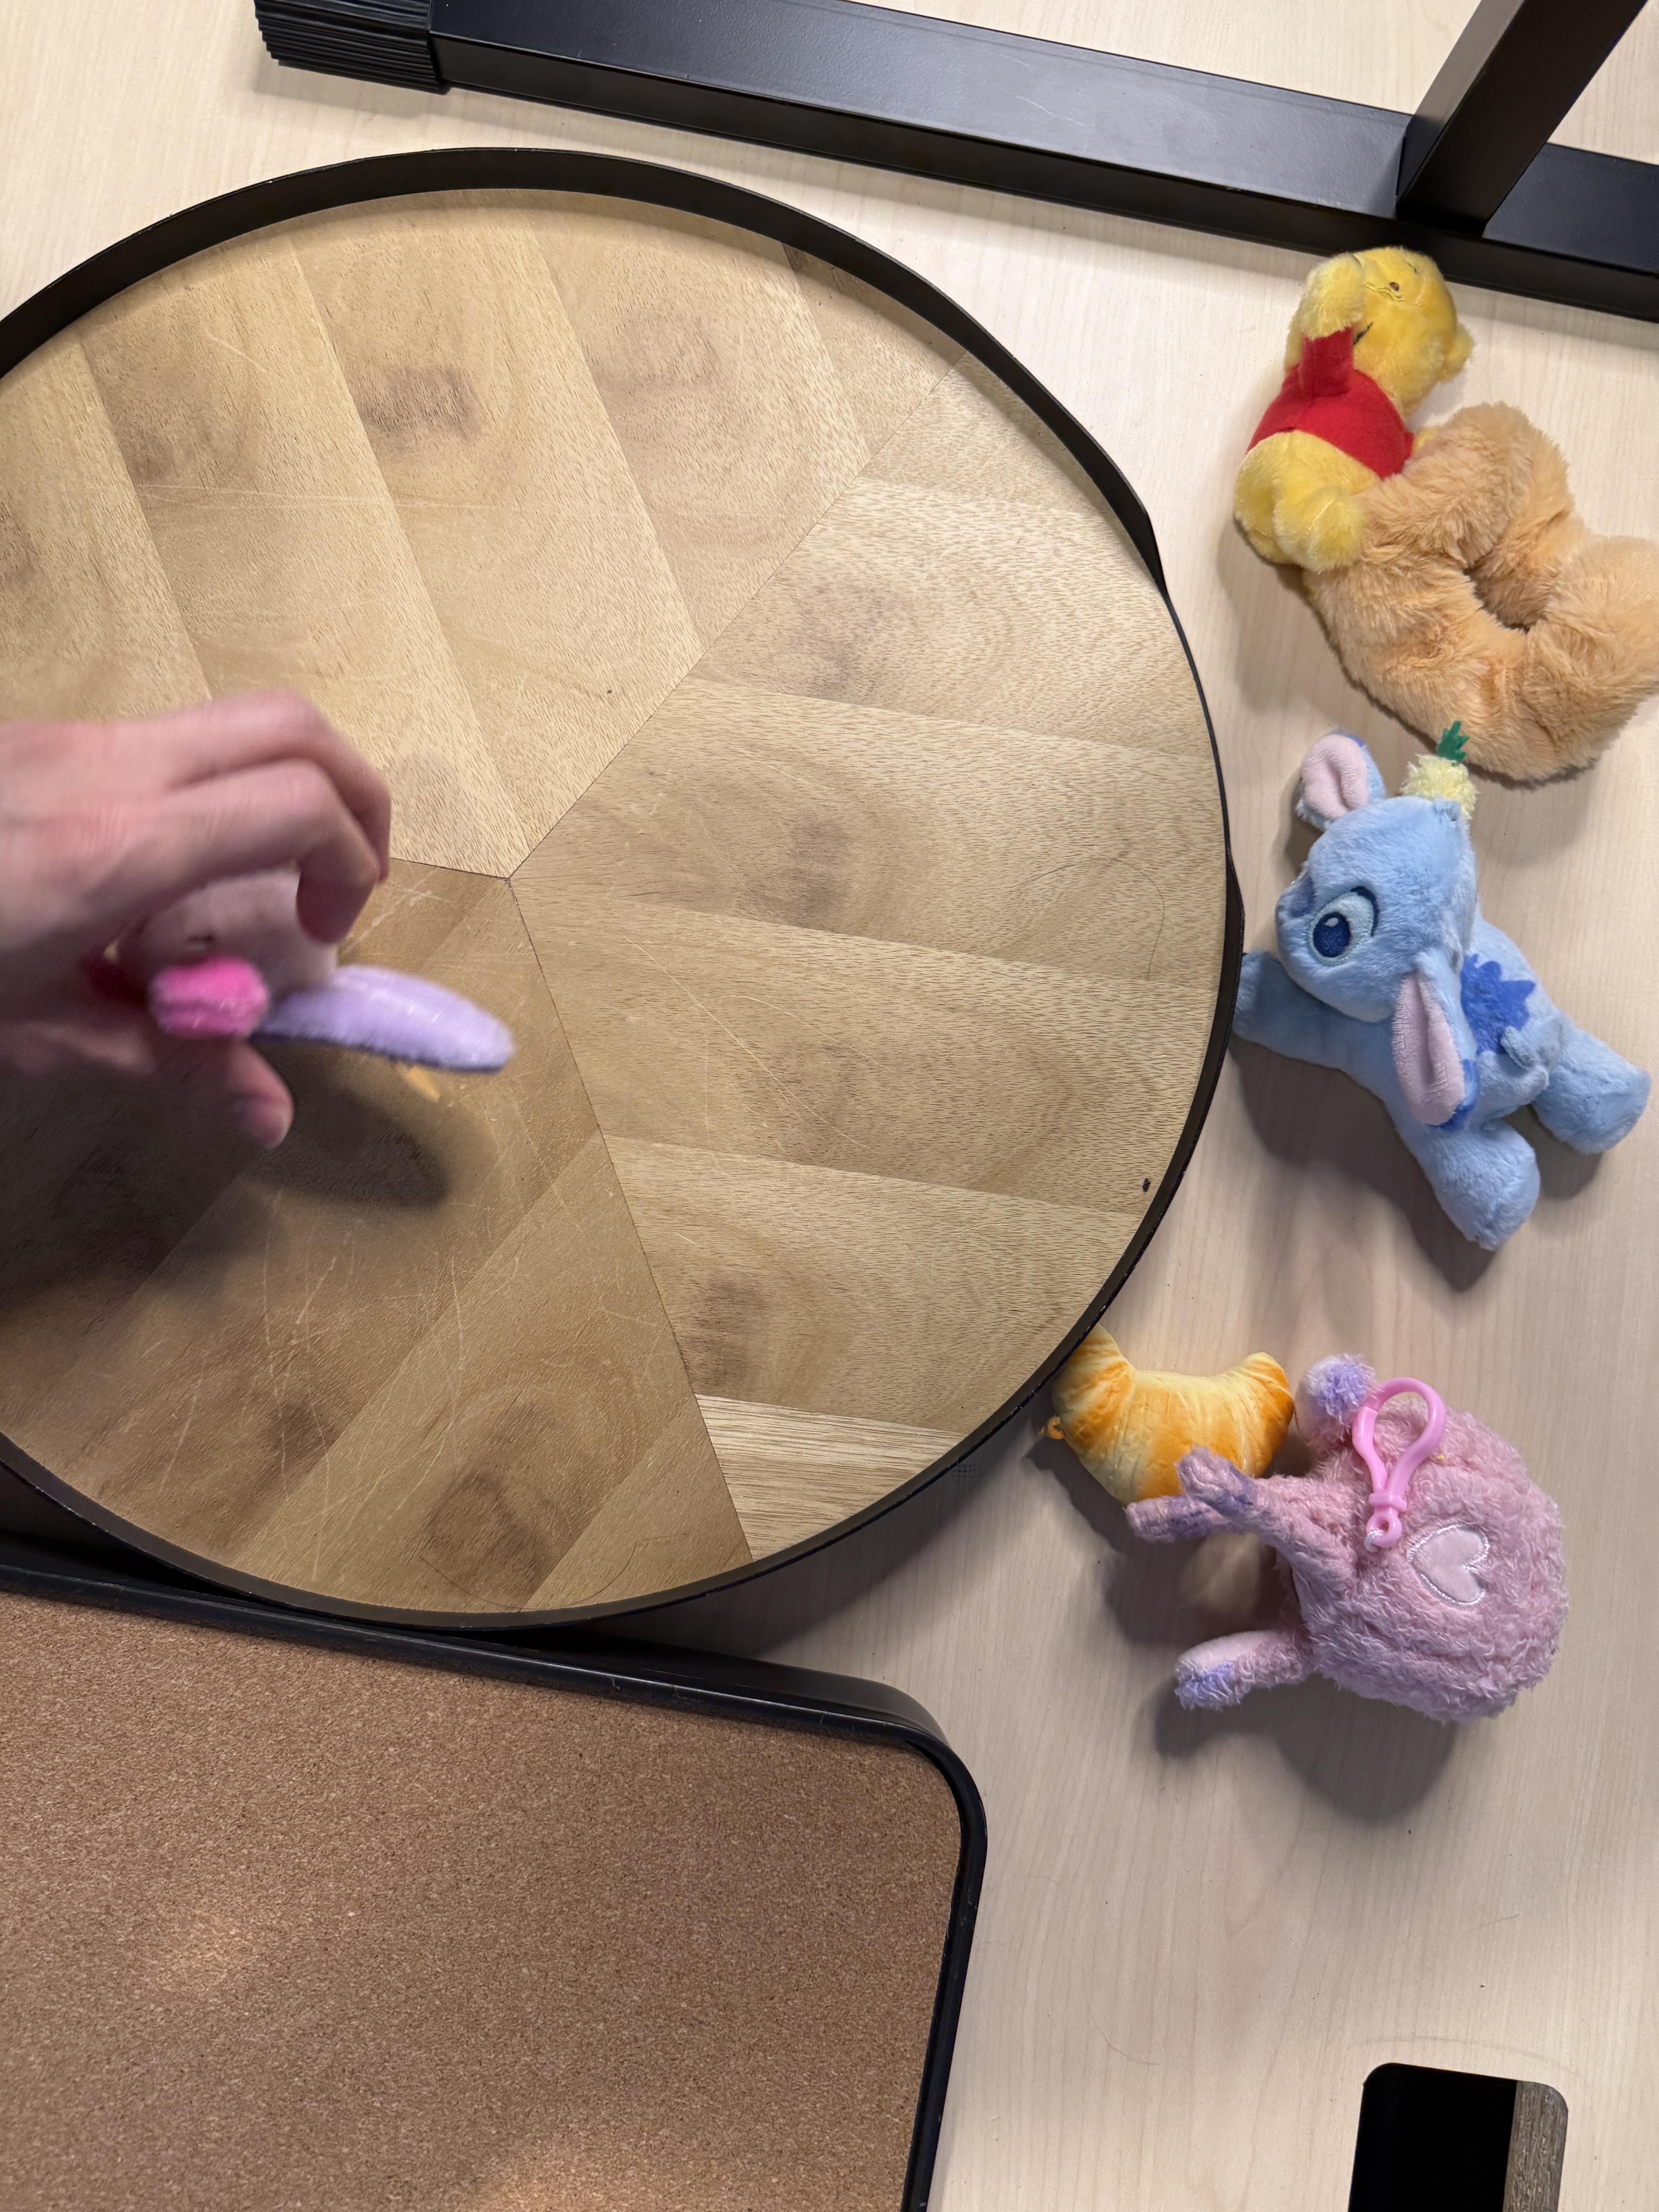bread: (1039, 1324, 1295, 1500)
doll: (1239, 237, 1659, 787), (1227, 740, 1642, 1245), (1166, 1352, 1570, 1742), (136, 864, 521, 1064)
